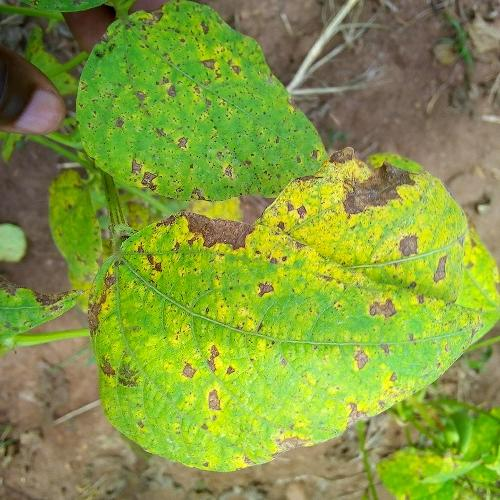hawar: (144, 150, 466, 340)
